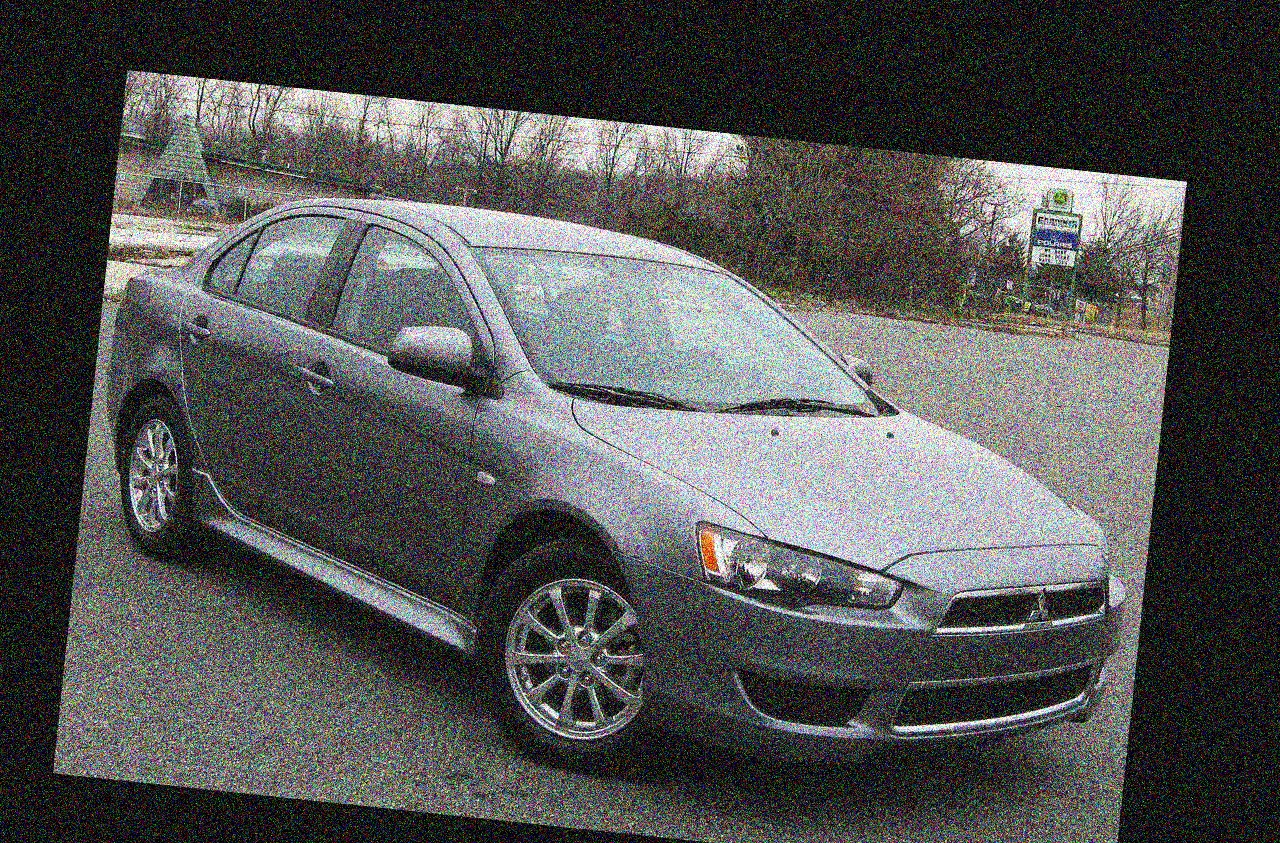car: (58, 126, 1181, 843)
